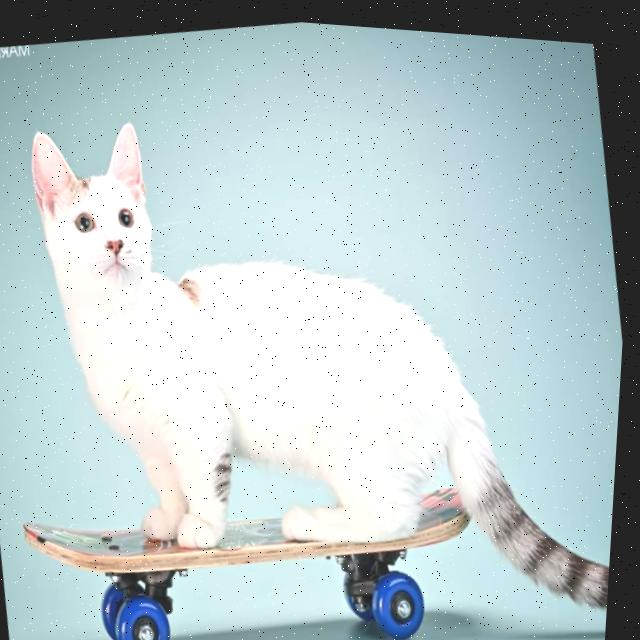Munchkin: (0, 32, 639, 640)
